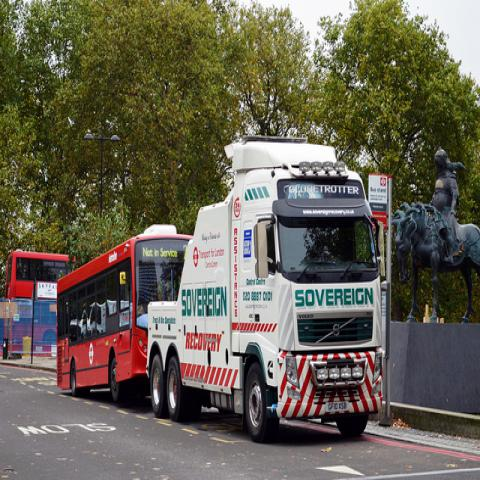bus: (56, 222, 193, 409), (3, 249, 77, 358)
truck: (146, 138, 385, 448)
